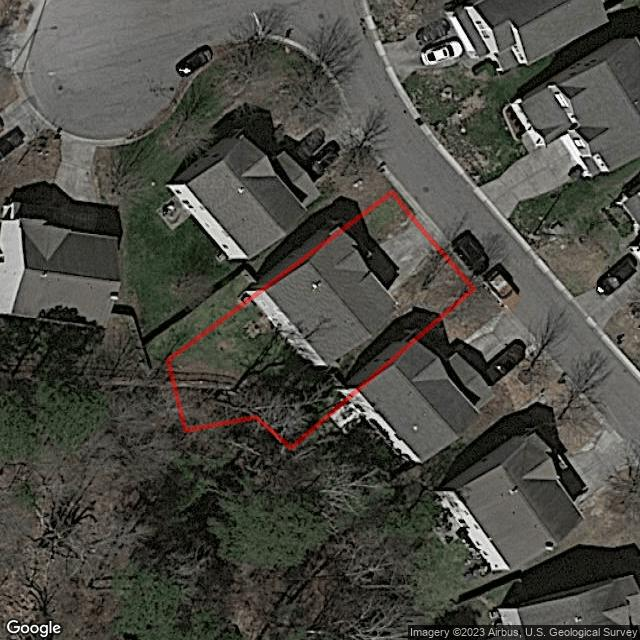Driveway: (380, 224, 432, 291)
Extra Driveway: (416, 212, 450, 249)
House: (257, 235, 400, 373)
